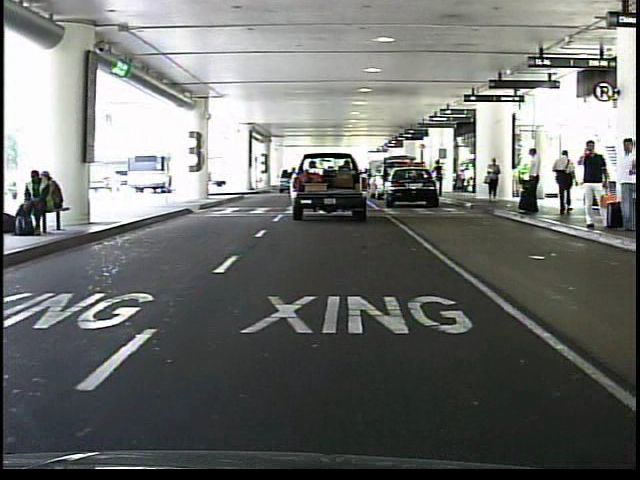person: (574, 138, 612, 235), (613, 135, 636, 236), (553, 145, 580, 218), (517, 145, 544, 218), (484, 157, 503, 205), (433, 159, 446, 200)
